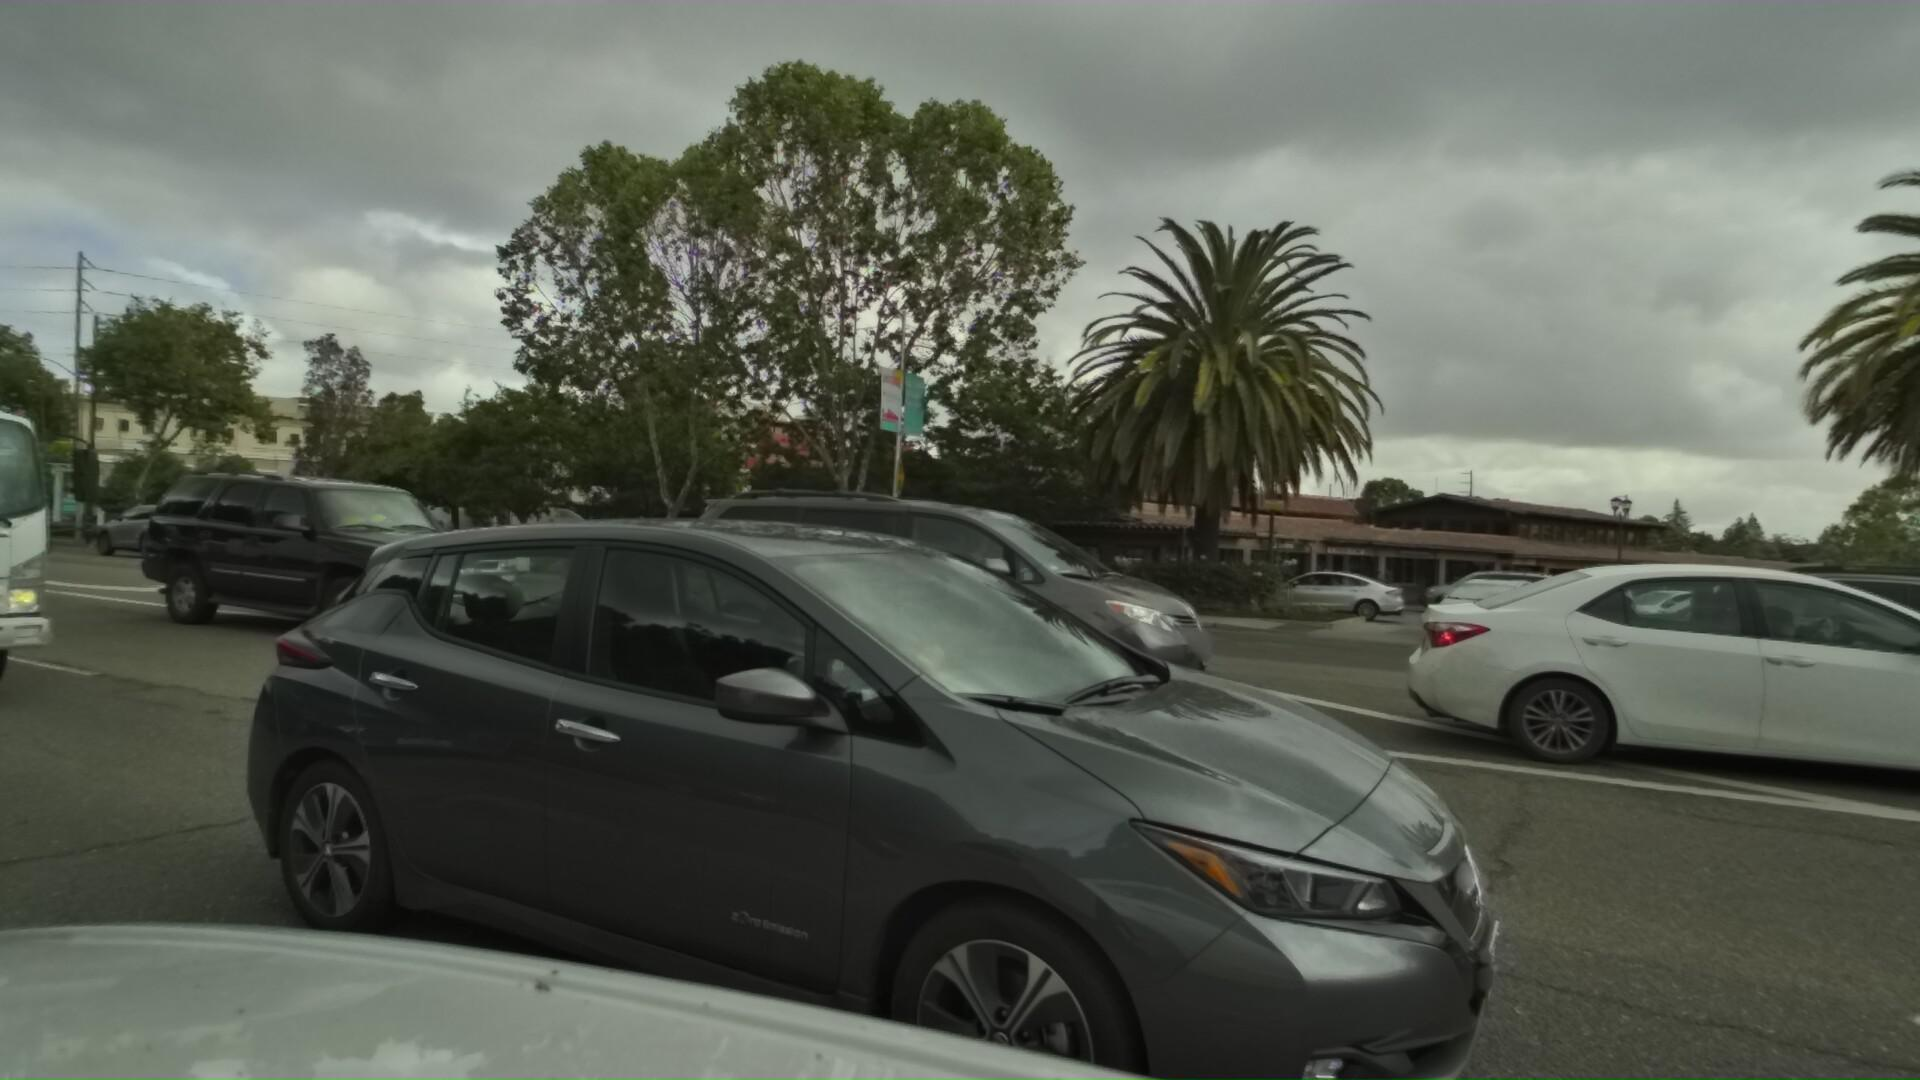car: (210, 454, 1589, 1080), (1391, 535, 1920, 836), (636, 475, 1236, 733), (1456, 546, 1920, 745), (117, 462, 545, 651), (605, 517, 845, 616), (1791, 593, 1920, 717), (1411, 568, 1563, 650), (1244, 568, 1400, 630), (86, 500, 229, 564), (382, 522, 534, 582)
truck: (0, 135, 153, 756)
